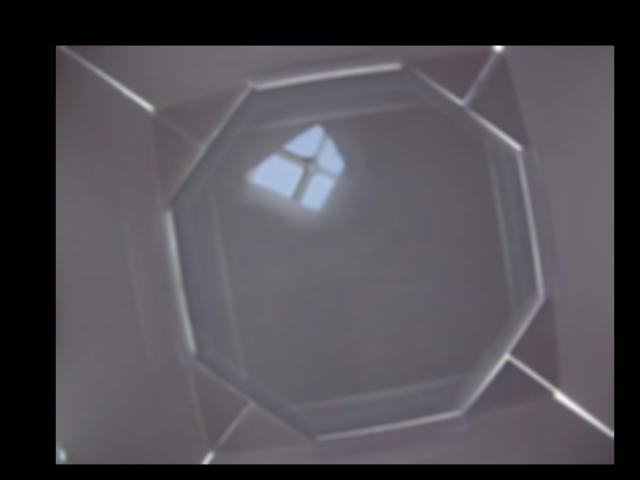China: (245, 124, 342, 215)
